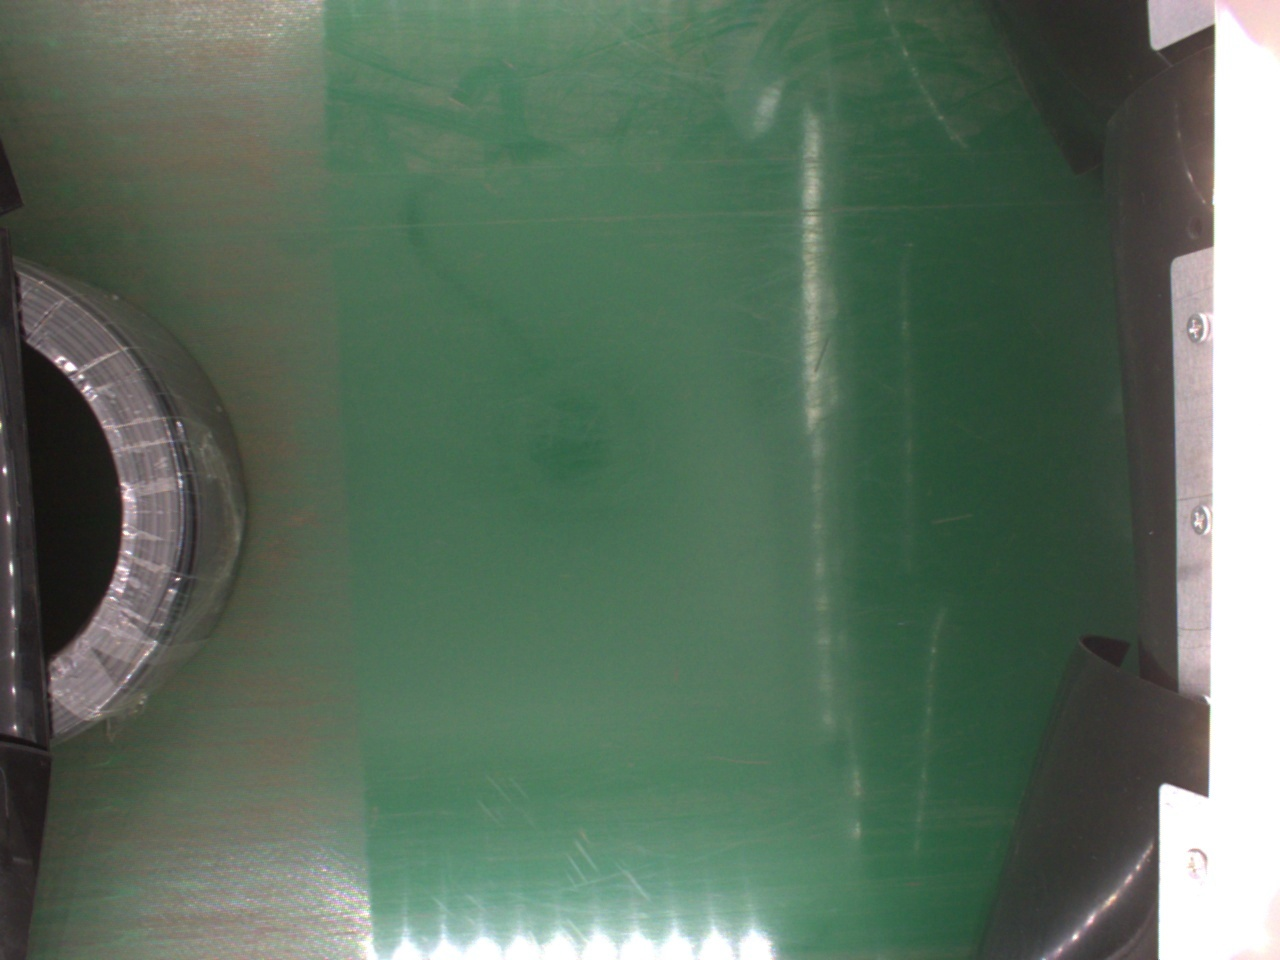black: (9, 260, 250, 740)
